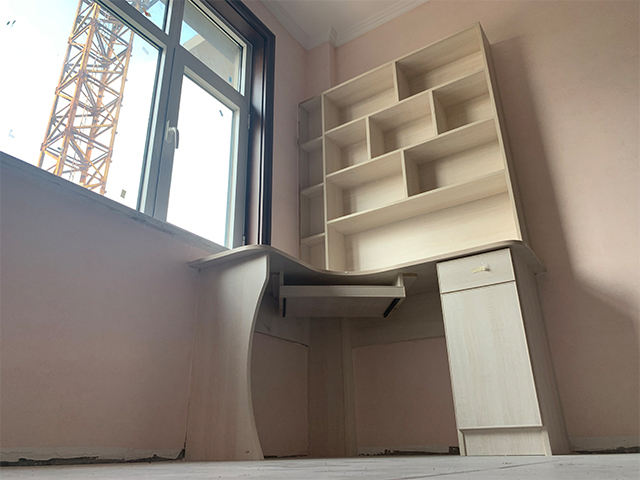table: (195, 238, 562, 463)
